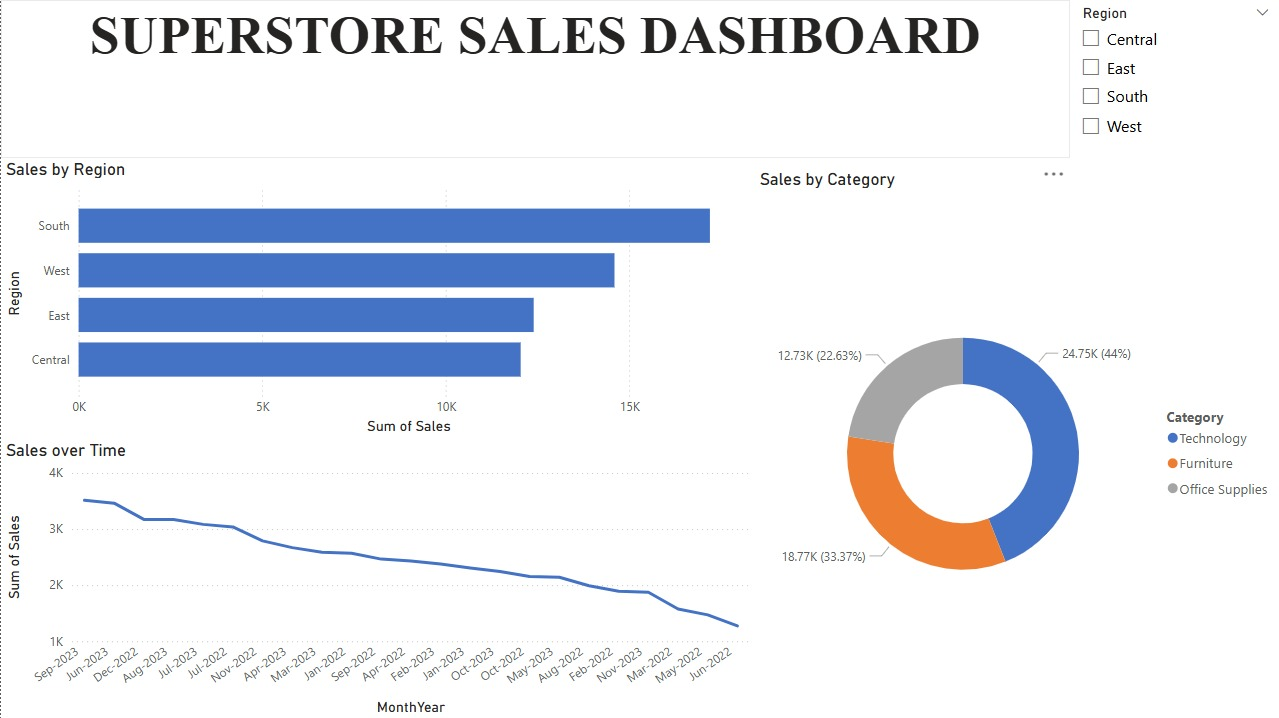

What the dashboard file says about the page in this screenshot:
{"tool":"powerbi","page":{"name":"Page 1","canvas":[1280,720],"ordinal":0},"visuals":[{"type":"lineChart","title":"Sales over Time","fields":{"Category":["Superstore_Sales.MonthYear"],"Y":["Sum(Superstore_Sales.Sales)"]},"box":[0,439.5,753.5,280.2],"z":0},{"type":"barChart","title":"Sales by Region","fields":{"Category":["Superstore_Sales.Region"],"Y":["Sum(Superstore_Sales.Sales)"]},"box":[0,159.3,753.5,280.2],"z":1000},{"type":"donutChart","title":"Sales by Category","fields":{"Category":["Superstore_Sales.Category"],"Y":["Sum(Superstore_Sales.Sales)"]},"box":[753.5,168.6,526.7,551.2],"z":2000},{"type":"slicer","fields":{"Values":["Superstore_Sales.Region"]},"box":[1068.6,0,211.6,159.3],"z":3000},{"type":"textbox","box":[0,0,1068.6,159.3],"z":3001}]}

Visuals, with their boxes in screenshot pixels (x1, y1, x2, y2), scaled from the page's 1280x720 canvas onto the 1279x718 screenshot:
"Sales over Time" lineChart: 0, 438, 753, 717
"Sales by Region" barChart: 0, 159, 753, 438
"Sales by Category" donutChart: 753, 168, 1278, 717
slicer - Superstore_Sales.Region: 1068, 0, 1278, 159
textbox: 0, 0, 1068, 159
